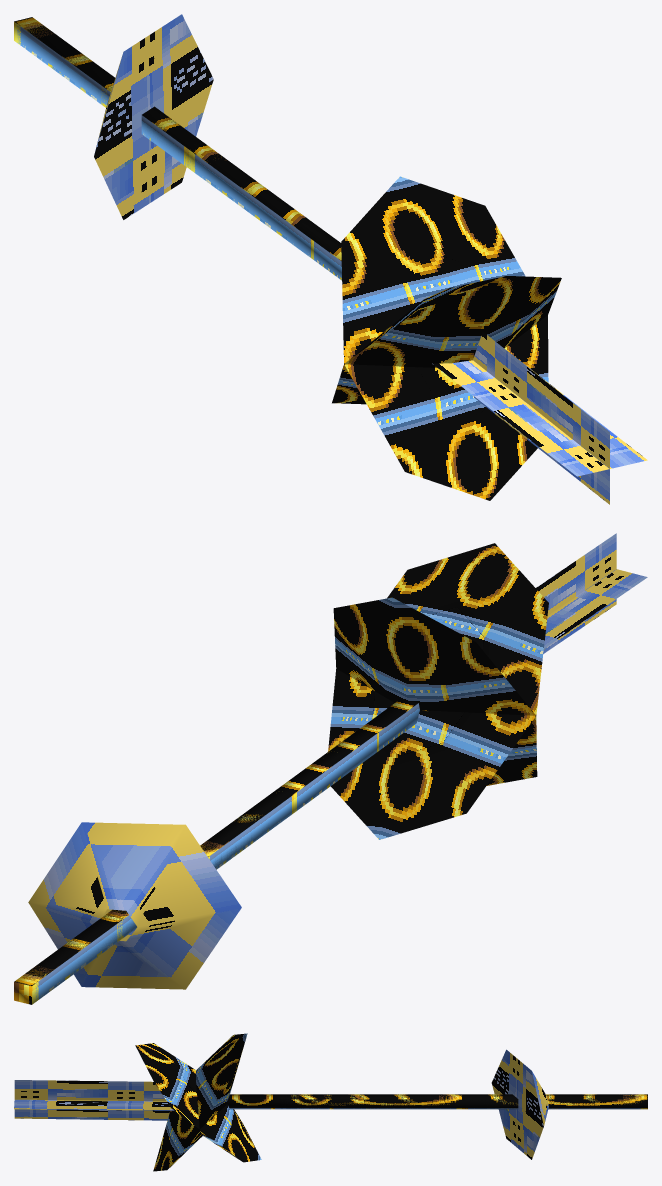
The model's file is 01_04_stick.gltf.
The picture shows the model from 3 angles, top to bottom: view 1: azimuth 30°, elevation 25°; view 2: azimuth 150°, elevation 25°; view 3: azimuth 270°, elevation 25°; orthographic projection. The views are drawn at different scales.
Visible parts, largest first — view 1: 01_04_stick; view 2: 01_04_stick; view 3: 01_04_stick.
Part boxes in pixels (<box>): 01_04_stick: <box>14,14,647,504</box>; 01_04_stick: <box>14,533,647,1004</box>; 01_04_stick: <box>14,1033,647,1171</box>.
Size of the model in its own units: 0.2778 by 0.3376 by 1.41.
Materials: 2 (2 with a texture image).
